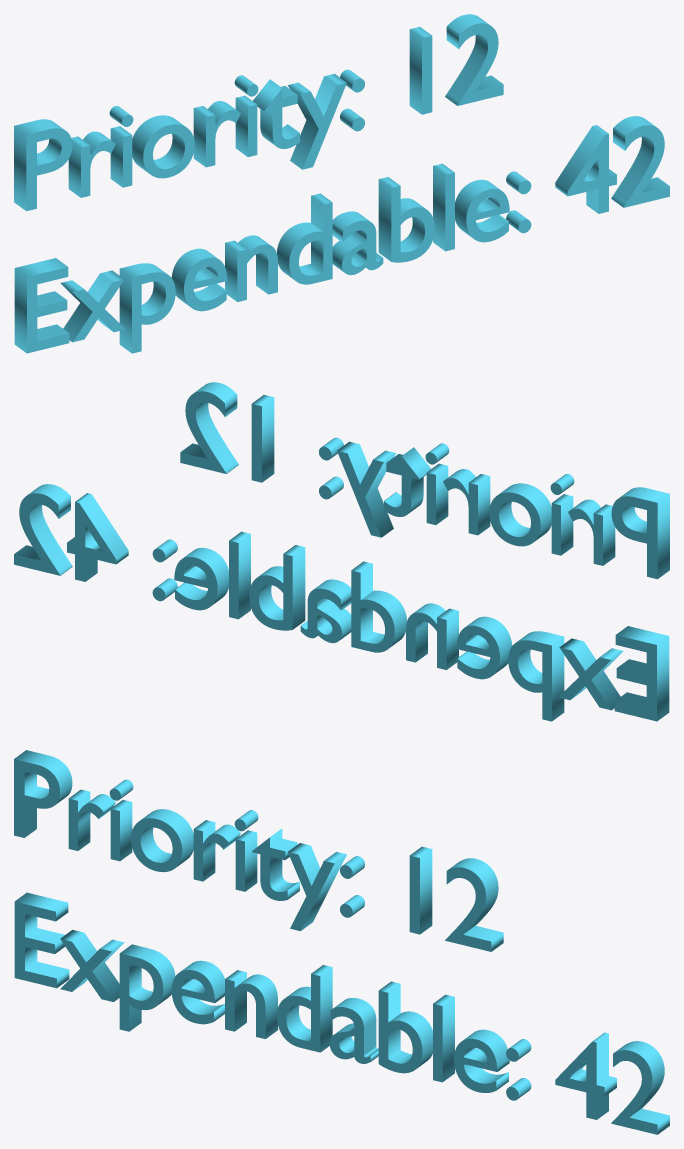
Rendered from console_test_009_result.fbx.
3 renders of one model, top to bottom at view 1: azimuth 30°, elevation 25°; view 2: azimuth 150°, elevation 25°; view 3: azimuth 330°, elevation 25°, orthographic.
Parts seen in each view (by area): view 1: Txt_Test_01.038, Txt_Test_01.040; view 2: Txt_Test_01.038, Txt_Test_01.040; view 3: Txt_Test_01.038, Txt_Test_01.040.
Boxes of the visible parts, x1,y1,x2,y2 form: Txt_Test_01.038: (14, 116, 669, 353); Txt_Test_01.040: (14, 14, 503, 211); Txt_Test_01.038: (14, 484, 669, 721); Txt_Test_01.040: (180, 382, 669, 579); Txt_Test_01.038: (14, 892, 669, 1134); Txt_Test_01.040: (14, 750, 503, 951).
Size of the model in its own units: 0.8102 by 0.2955 by 0.027.
